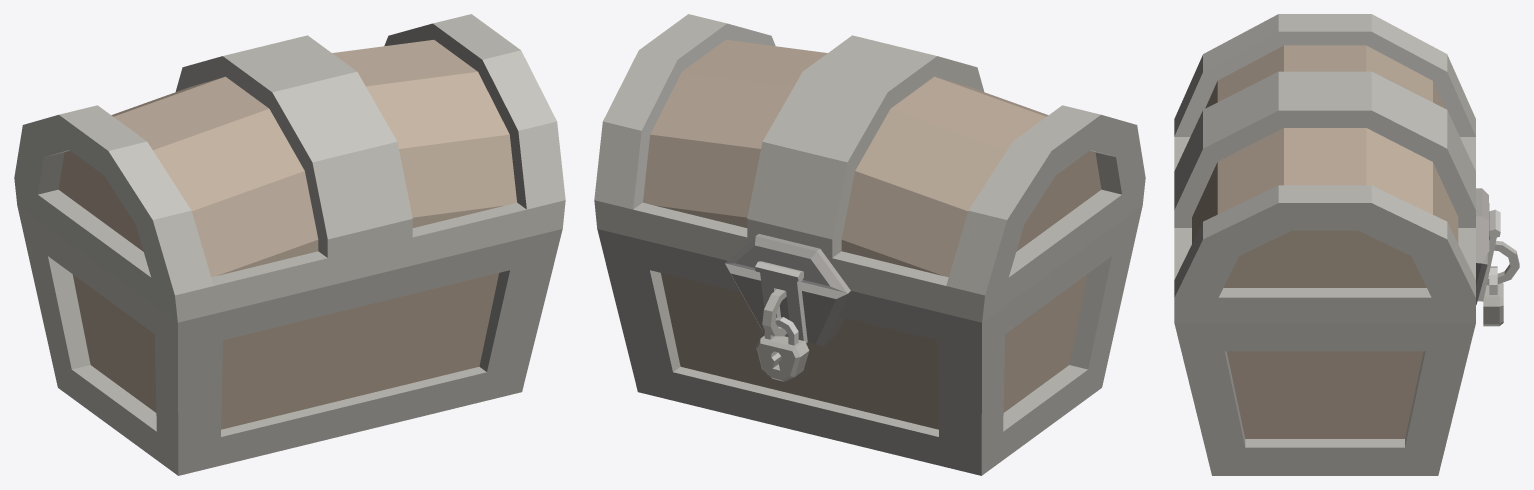
Rendered from Beach_Prop_Treasure_Chest.glb.
The picture shows the model from 3 angles, left to right: view 1: azimuth 30°, elevation 25°; view 2: azimuth 150°, elevation 25°; view 3: azimuth 270°, elevation 25°; orthographic projection. The views are drawn at different scales.
Visible parts, largest first — view 1: Beach_Prop_Treasure_Chest; view 2: Beach_Prop_Treasure_Chest; view 3: Beach_Prop_Treasure_Chest.
Boxes of the visible parts, <box> form: Beach_Prop_Treasure_Chest: <box>14,14,565,475</box>; Beach_Prop_Treasure_Chest: <box>594,14,1145,475</box>; Beach_Prop_Treasure_Chest: <box>1174,14,1519,475</box>.
Size of the model in its own units: 0.5149 by 0.3887 by 0.3972.
